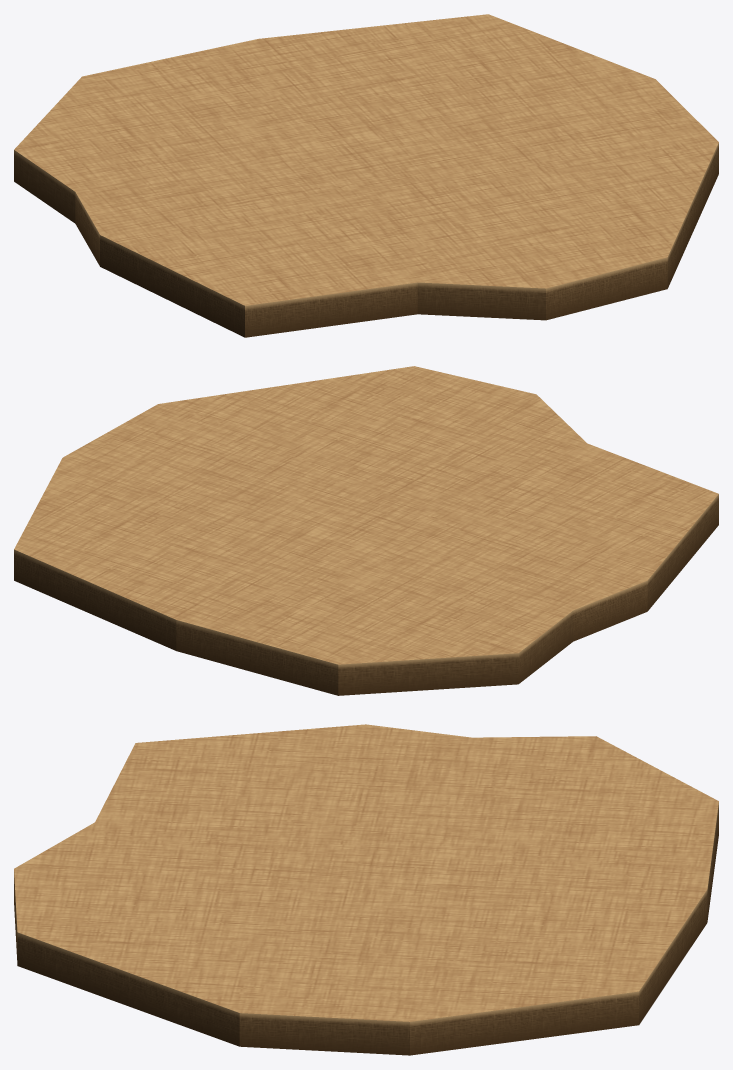
The model's file is Terrain01_A.FBX.
3 renders of one model, top to bottom at view 1: azimuth 30°, elevation 25°; view 2: azimuth 150°, elevation 25°; view 3: azimuth 270°, elevation 25°, orthographic. The views are drawn at different scales.
Parts seen in each view (by area): view 1: Terrain01_A; view 2: Terrain01_A; view 3: Terrain01_A.
Part boxes in pixels (<box>): Terrain01_A: <box>14,14,718,337</box>; Terrain01_A: <box>14,366,718,695</box>; Terrain01_A: <box>14,724,718,1055</box>.
Bounding box in the file's own units: 950 × 50.17 × 951.
1 material, 1 textured.
